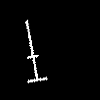double_crochet: (25, 20, 46, 82)
